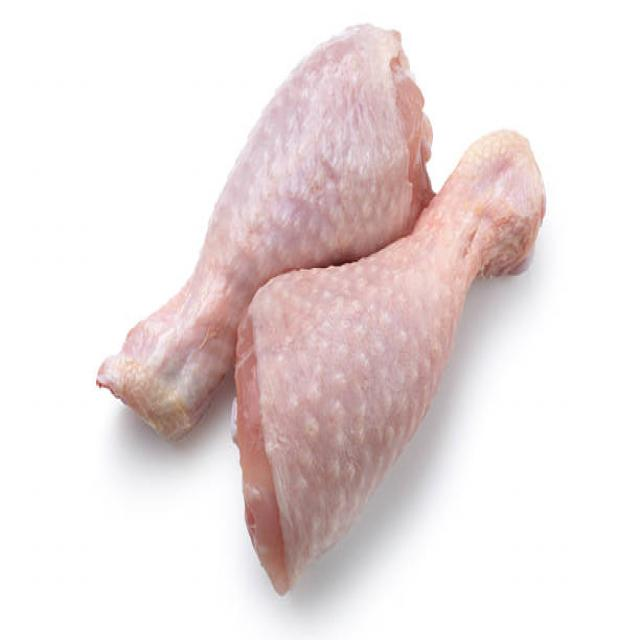Chicken: (222, 129, 550, 581)
